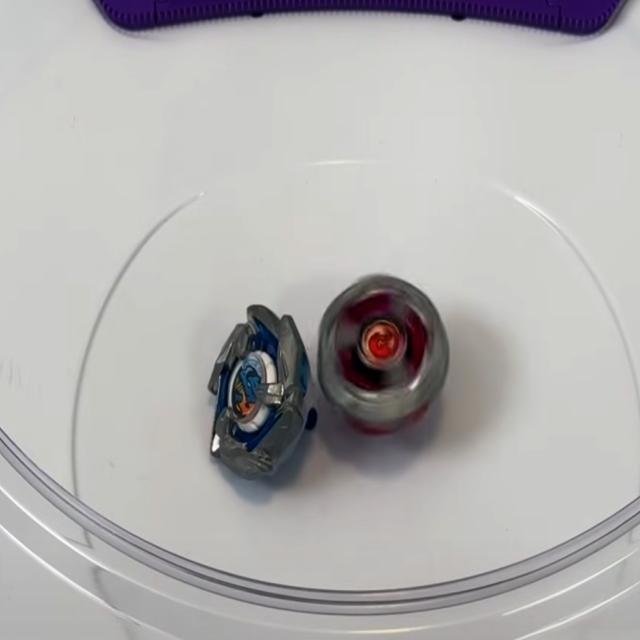Beyblade: (316, 276, 446, 432), (206, 305, 312, 478)
